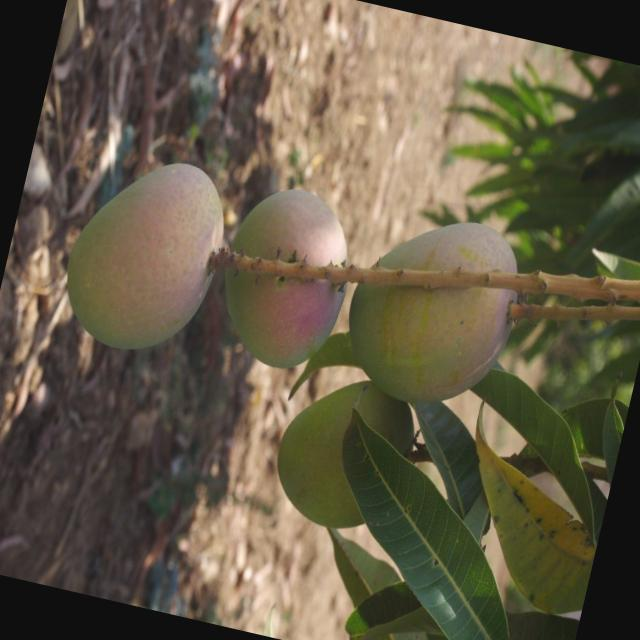mango: (44, 146, 240, 372), (337, 212, 534, 410), (208, 163, 376, 387), (257, 365, 426, 546)
